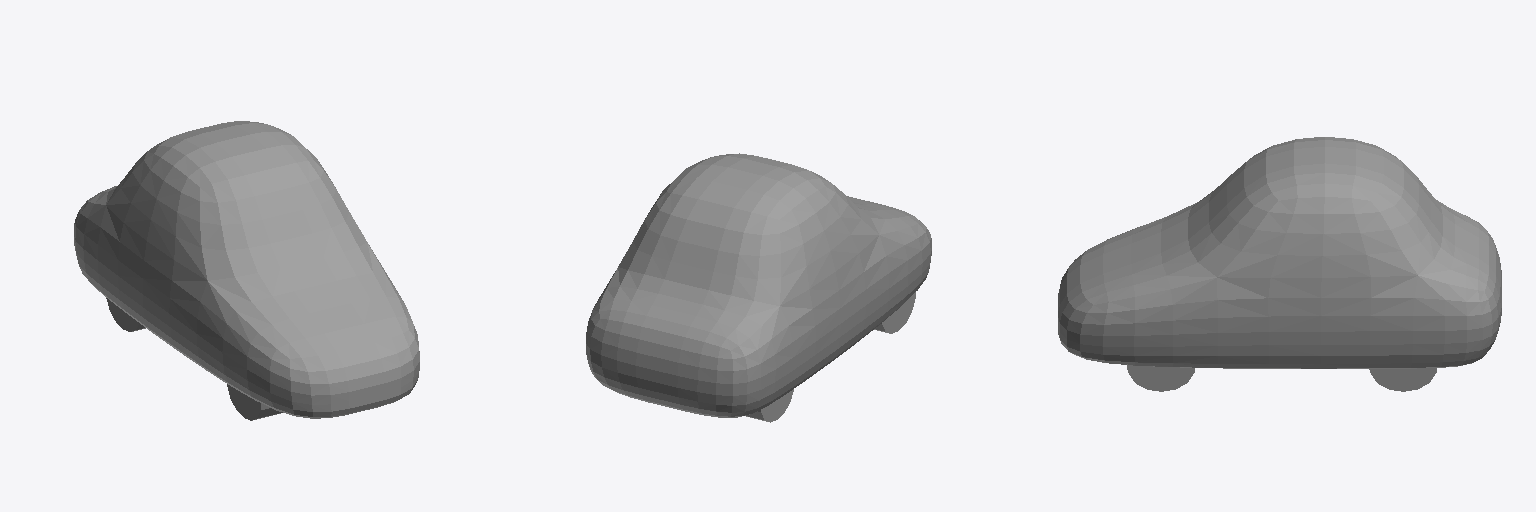
File: Car.obj
3 views of the same model, side by side, from view 1: azimuth 30°, elevation 25°; view 2: azimuth 150°, elevation 25°; view 3: azimuth 270°, elevation 25° (orthographic).
Visible parts, largest first — view 1: Car_Cube; view 2: Car_Cube; view 3: Car_Cube.
Boxes of the visible parts, box(x1,y1,x2,y2) form: Car_Cube: box(74, 121, 419, 420); Car_Cube: box(586, 153, 931, 422); Car_Cube: box(1058, 137, 1501, 391).
Size of the model in its own units: 1.8 by 1.86 by 3.72.